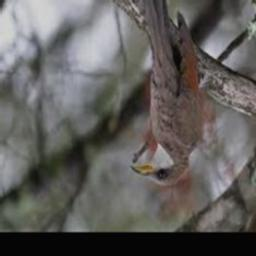Cuckoo: (130, 0, 202, 186)
